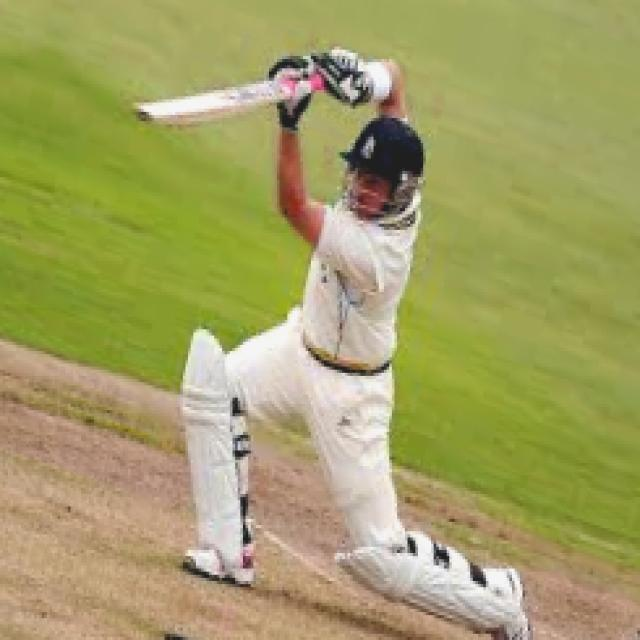toe: (130, 103, 185, 136)
